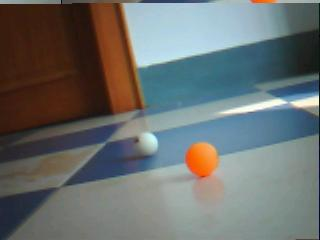oball: (184, 143, 219, 178)
